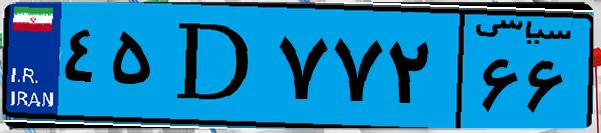2: (385, 28, 445, 110)
4: (57, 26, 110, 100)
5: (110, 28, 158, 98)
6: (475, 38, 525, 113), (525, 38, 570, 115)
7: (270, 28, 330, 110), (330, 28, 385, 110)
D: (158, 12, 270, 120)
